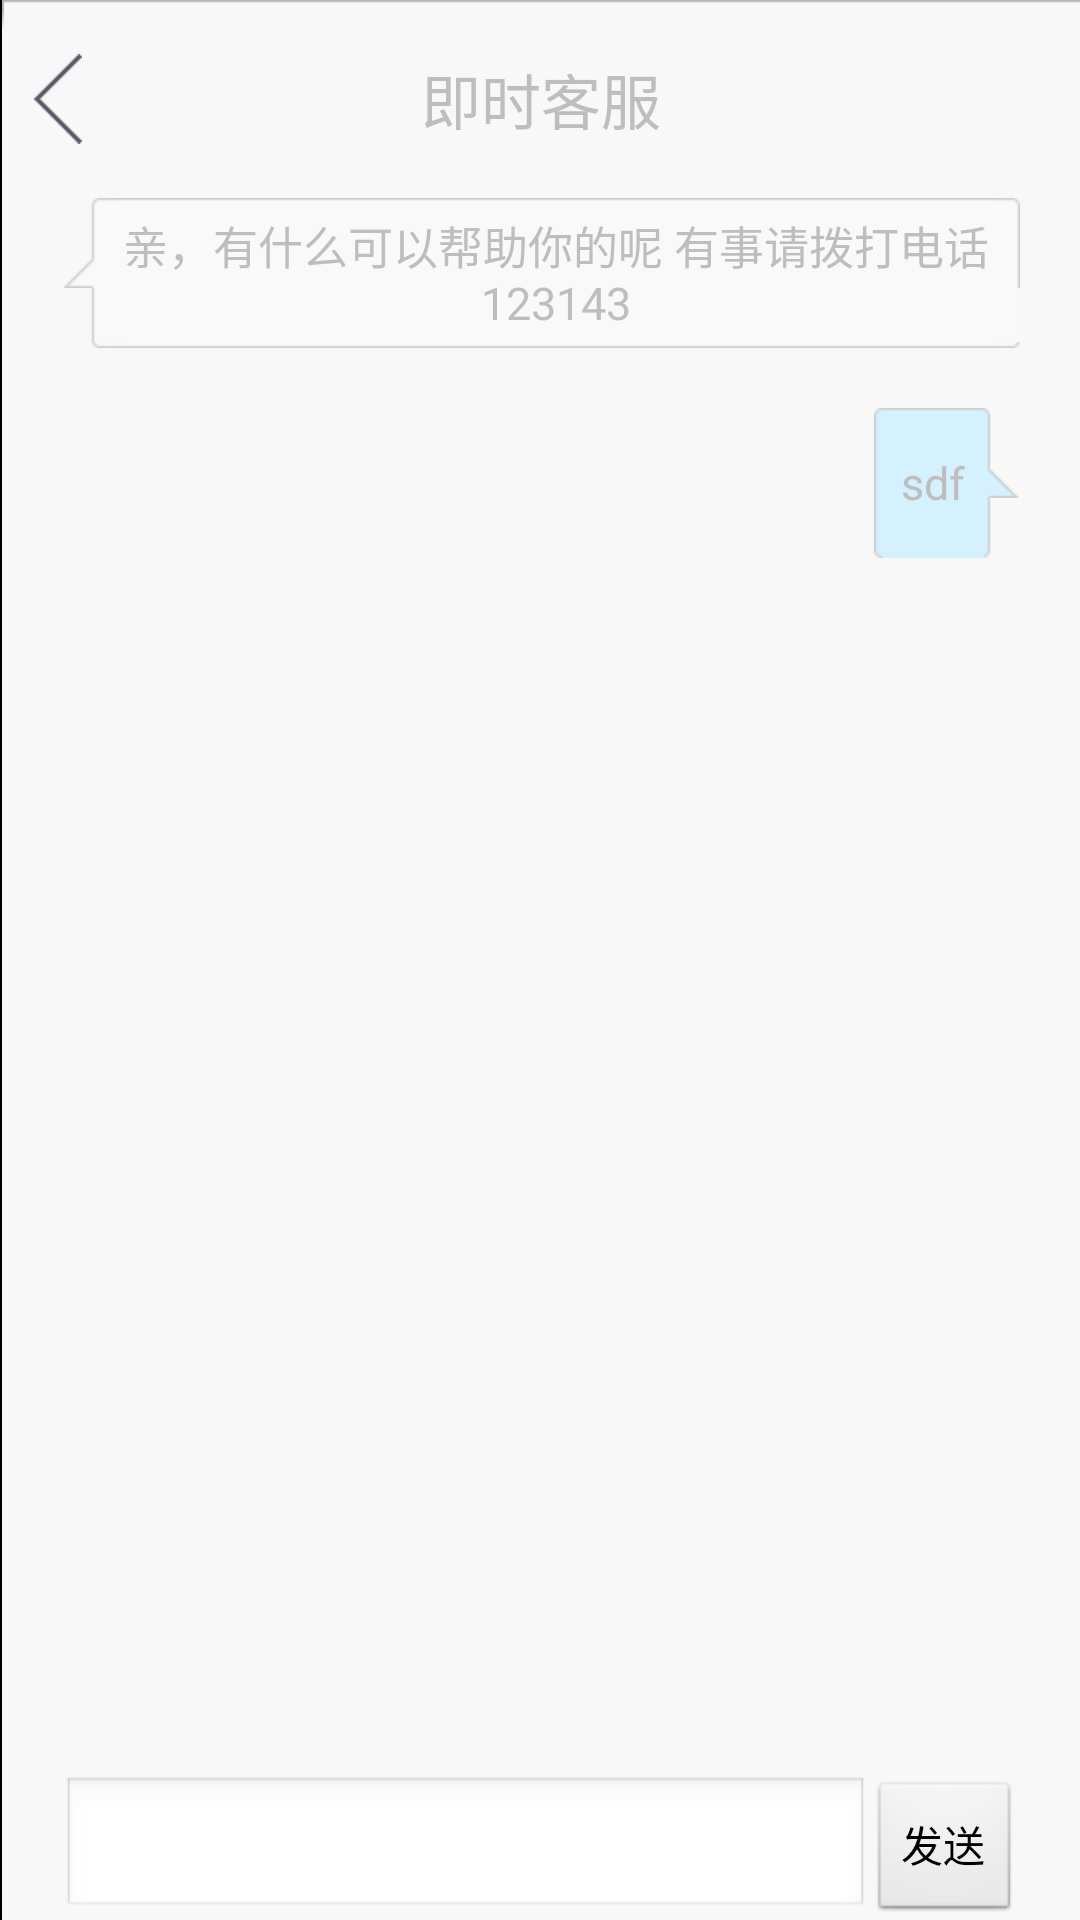

Screen size 1080 × 1920. Icon name, then its box in pixels as (x1, y1, x2, y2):
back: (34, 54, 82, 144)
